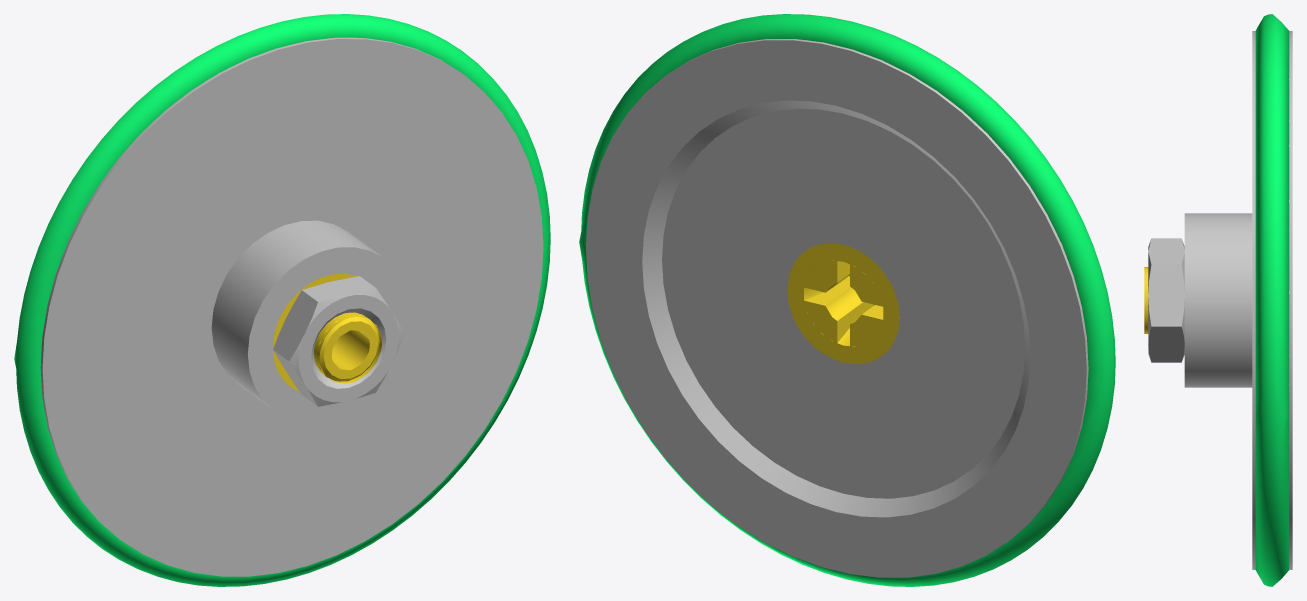
Rendered from epuck_wheel.obj.
3 views of the same model, side by side, from view 1: azimuth 30°, elevation 25°; view 2: azimuth 150°, elevation 25°; view 3: azimuth 270°, elevation 25° (orthographic). The views are drawn at different scales.
Visible parts, largest first — view 1: mesh 2 epuck_wheel-1-surface1 face, mesh 3 epuck_wheel-1-solid1 face, mesh 1 Wheel; view 2: mesh 2 epuck_wheel-1-surface1 face, mesh 3 epuck_wheel-1-solid1 face, mesh 1 Wheel; view 3: mesh 2 epuck_wheel-1-surface1 face, mesh 3 epuck_wheel-1-solid1 face, mesh 1 Wheel.
Boxes of the visible parts, bbox=[...] form: mesh 2 epuck_wheel-1-surface1 face: bbox=[40, 37, 543, 576]; mesh 3 epuck_wheel-1-solid1 face: bbox=[14, 14, 550, 586]; mesh 1 Wheel: bbox=[273, 274, 381, 390]; mesh 2 epuck_wheel-1-surface1 face: bbox=[586, 39, 1088, 577]; mesh 3 epuck_wheel-1-solid1 face: bbox=[579, 14, 1115, 586]; mesh 1 Wheel: bbox=[787, 243, 899, 363]; mesh 2 epuck_wheel-1-surface1 face: bbox=[1148, 31, 1292, 569]; mesh 3 epuck_wheel-1-solid1 face: bbox=[1255, 14, 1289, 586]; mesh 1 Wheel: bbox=[1144, 267, 1148, 333].
Size of the model in its own units: 0.0425 by 0.0425 by 0.011.
